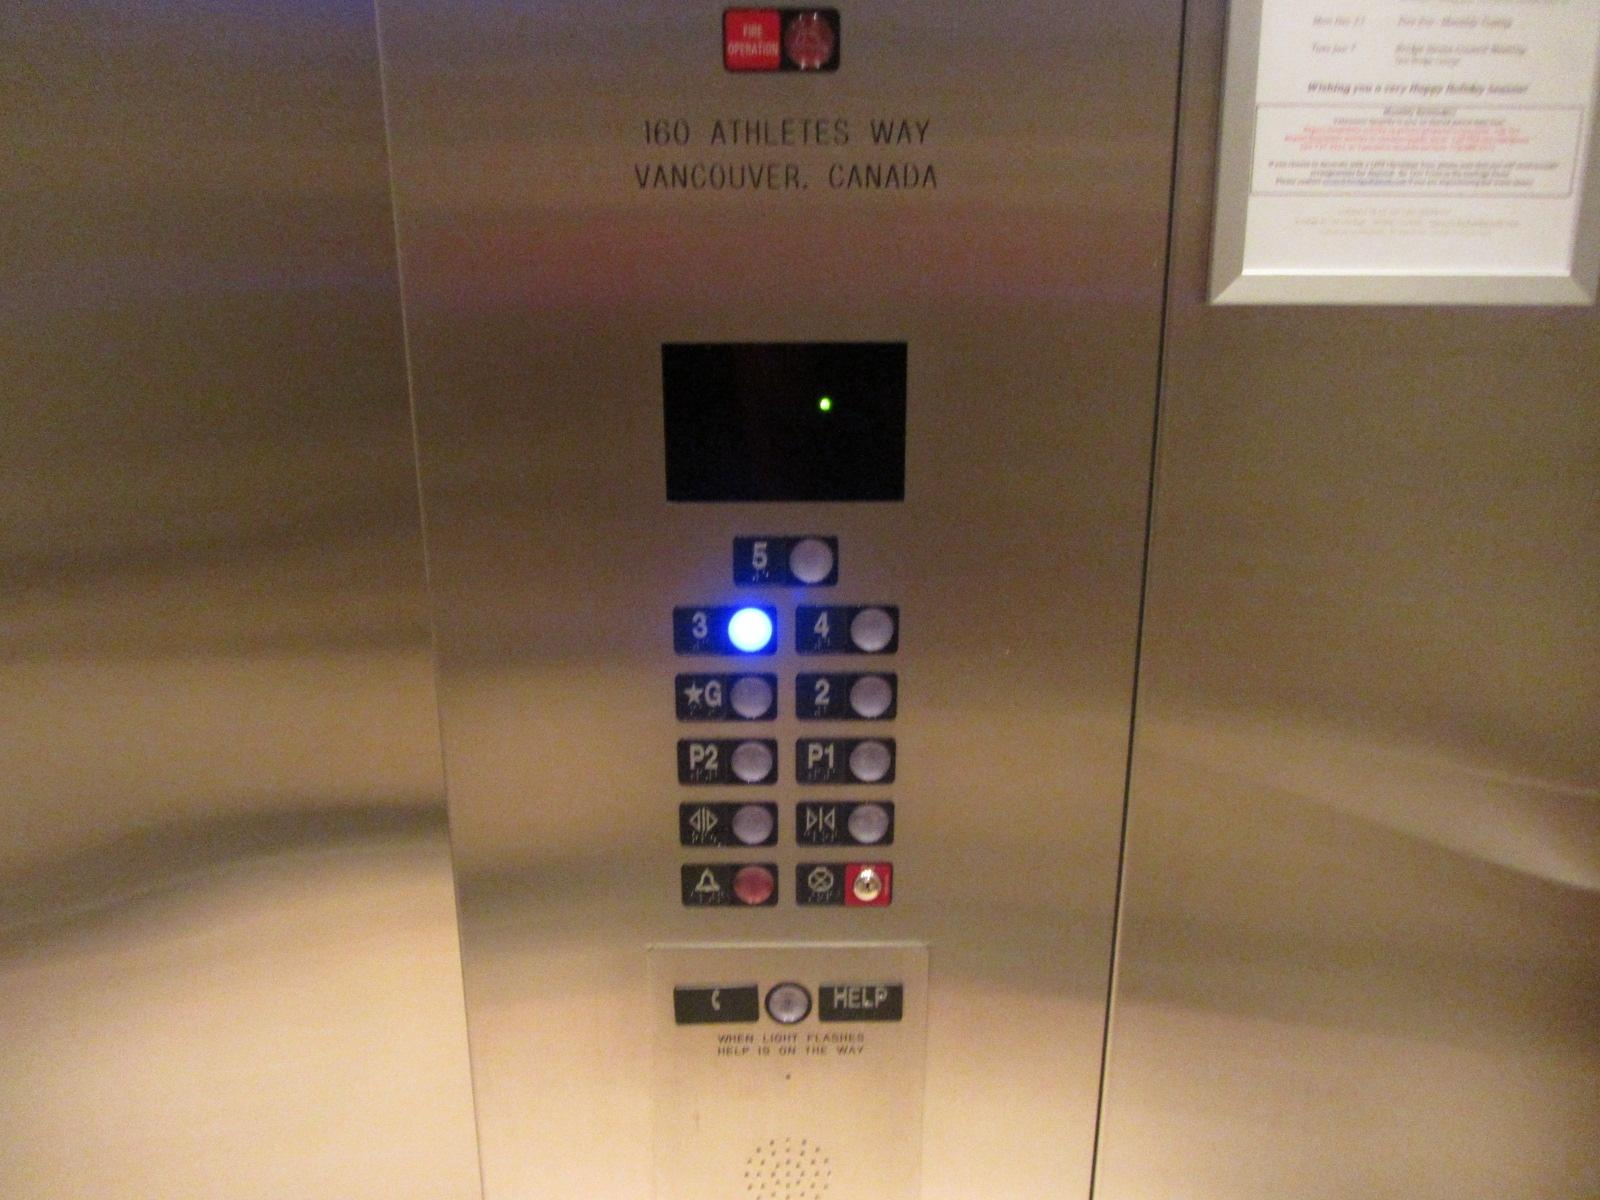2: (794, 669, 900, 724)
3: (671, 600, 780, 661)
4: (794, 601, 903, 657)
5: (729, 531, 842, 591)
P1: (794, 734, 898, 787)
P2: (674, 734, 781, 788)
alarm: (678, 860, 781, 911)
call: (671, 981, 760, 1026)
close: (792, 798, 897, 850)
empty: (763, 979, 813, 1027)
led: (658, 337, 910, 507)
open: (677, 798, 782, 851)
sG: (671, 669, 781, 724)
stop: (795, 858, 897, 910)
text: (718, 4, 843, 76)
text_help: (816, 978, 907, 1026)
